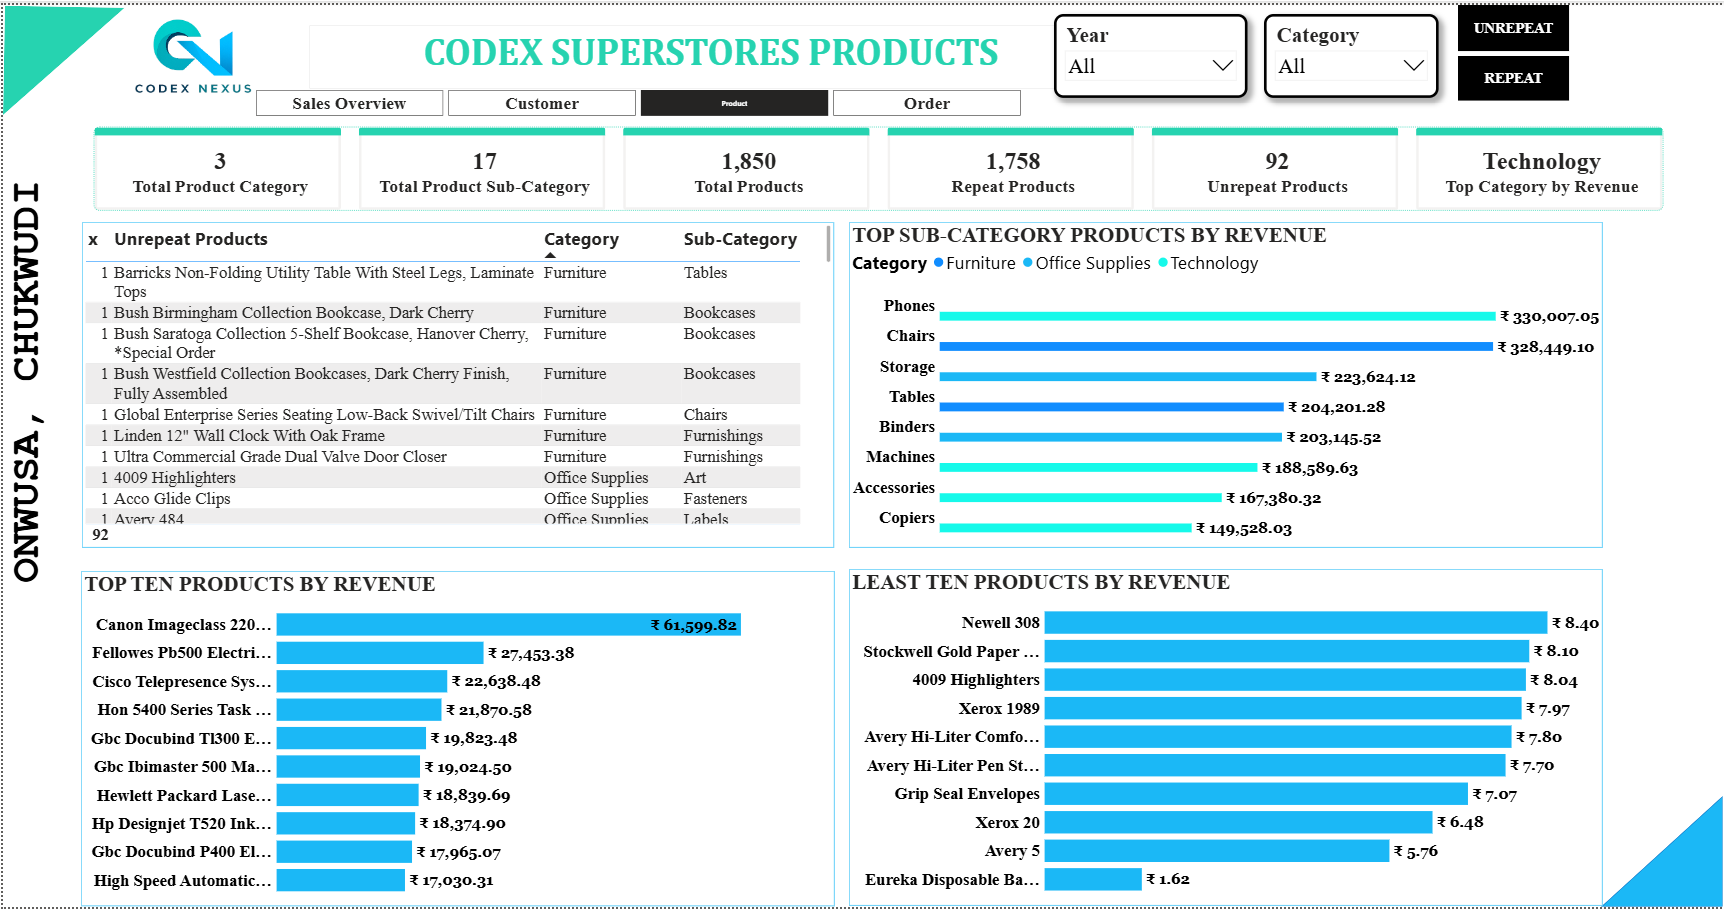

This screenshot's page, from the dashboard's own definition file:
{"tool":"powerbi","page":{"name":"Product","canvas":[3280,1720],"ordinal":2},"visuals":[{"type":"shape","box":[0,0,232.2,211.3],"z":0},{"type":"shape","box":[3047.8,1509,232.2,211.3],"z":1000},{"type":"shape","box":[0,199.4,87.2,1034.3],"z":2000},{"type":"textbox","box":[583.4,38.7,1532.8,122],"z":3000},{"type":"image","box":[232.2,0,250,199.4],"z":4000},{"type":"cardVisual","fields":{"Data":["My Measure.Total Product Category","My Measure.Total Product Sub-Category","My Measure.Total Products","My Measure.Repeat Products","My Measure.Unrepeated Products","My Measure.Top Category by Revenue"]},"box":[152.1,211,3034.9,201.7],"z":5000},{"type":"clusteredBarChart","title":"TOP TEN PRODUCTS BY REVENUE","fields":{"Category":["dimProduct.Product Name"],"Y":["My Measure.Total Revenue"]},"box":[148.9,1079.9,1436.7,639.2],"z":6000},{"type":"clusteredBarChart","title":"LEAST TEN PRODUCTS BY REVENUE","fields":{"Category":["dimProduct.Product Name"],"Y":["My Measure.Total Revenue"]},"box":[1613.2,1076.3,1436.8,641.7],"z":7000},{"type":"slicer","fields":{"Values":["Date Table.Year"]},"box":[2004.2,18.1,369.3,160.1],"z":8000},{"type":"slicer","fields":{"Values":["dimProduct.Category"]},"box":[2404.5,18.1,333.2,160.1],"z":9000},{"type":"tableEx","fields":{"Values":["My Measure.Unrepeat Products","dimProduct.Product Name","dimProduct.Category","dimProduct.Sub-Category"]},"box":[150.8,414.2,1434.2,621.2],"z":10000},{"type":"clusteredBarChart","title":"TOP SUB-CATEGORY PRODUCTS BY REVENUE","fields":{"Y":["My Measure.Total Revenue"],"Category":["dimProduct.Sub-Category"],"Series":["dimProduct.Category"]},"box":[1613.2,414.2,1436.8,621.2],"z":11000},{"type":"pageNavigator","box":[482.4,162.1,1458.8,49.6],"z":12000},{"type":"actionButton","box":[2774.5,98.1,211.8,85.2],"z":13000},{"type":"actionButton","box":[2774.5,0,211.8,87.8],"z":14000}]}

Visuals, with their boxes in screenshot pixels (x1, y1, x2, y2), scaled from the page's 3280x1720 canvas onto the 1724x911 screenshot:
shape: locate(0, 0, 122, 112)
shape: locate(1602, 799, 1723, 910)
shape: locate(0, 106, 46, 653)
textbox: locate(307, 20, 1112, 85)
image: locate(122, 0, 253, 106)
cardVisual - My Measure.Total Product Category x My Measure.Total Product Sub-Category: locate(80, 112, 1675, 219)
"TOP TEN PRODUCTS BY REVENUE" clusteredBarChart: locate(78, 572, 833, 910)
"LEAST TEN PRODUCTS BY REVENUE" clusteredBarChart: locate(848, 570, 1603, 910)
slicer - Date Table.Year: locate(1053, 10, 1248, 94)
slicer - dimProduct.Category: locate(1264, 10, 1439, 94)
tableEx - My Measure.Unrepeat Products x dimProduct.Product Name: locate(79, 219, 833, 548)
"TOP SUB-CATEGORY PRODUCTS BY REVENUE" clusteredBarChart: locate(848, 219, 1603, 548)
pageNavigator: locate(254, 86, 1020, 112)
actionButton: locate(1458, 52, 1570, 97)
actionButton: locate(1458, 0, 1570, 47)
